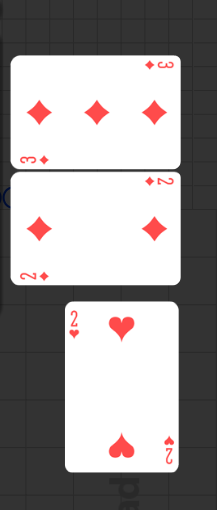2D: (143, 176, 175, 188)
2H: (162, 434, 174, 465)
3D: (142, 60, 175, 71)
